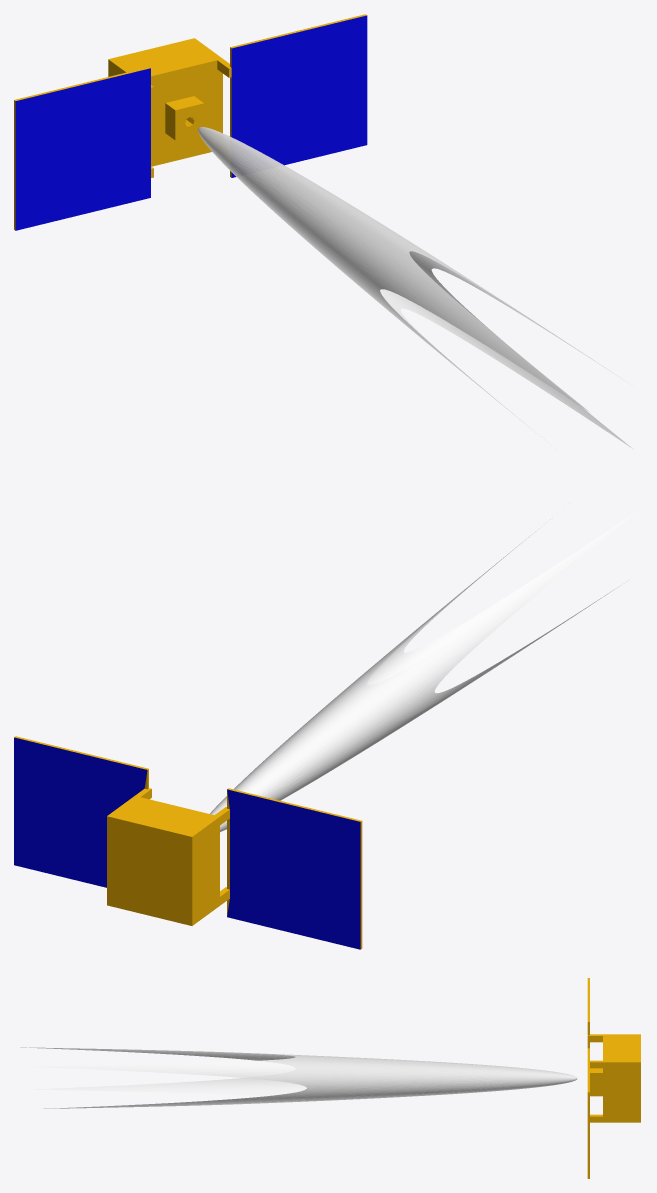
Rendered from Plateforme OTV with plume.dae.
3 renders of one model, top to bottom at view 1: azimuth 30°, elevation 25°; view 2: azimuth 150°, elevation 25°; view 3: azimuth 270°, elevation 25°, orthographic. The views are drawn at different scales.
Visible parts, largest first — view 1: Component1_5 (×4), Component2_5; view 2: Component1_5 (×3), Component2_5; view 3: Component2_5, Component1_5 (×2).
Part boxes in pixels (x1=…): Component1_5 (×4): x1=14, y1=14, x2=367, y2=230; Component2_5: x1=198, y1=127, x2=633, y2=449; Component1_5 (×3): x1=14, y1=736, x2=362, y2=949; Component2_5: x1=210, y1=509, x2=640, y2=831; Component2_5: x1=20, y1=1047, x2=577, y2=1108; Component1_5 (×2): x1=587, y1=978, x2=640, y2=1178.
Bounding box in the file's own units: 48032 × 111657 × 16929.
